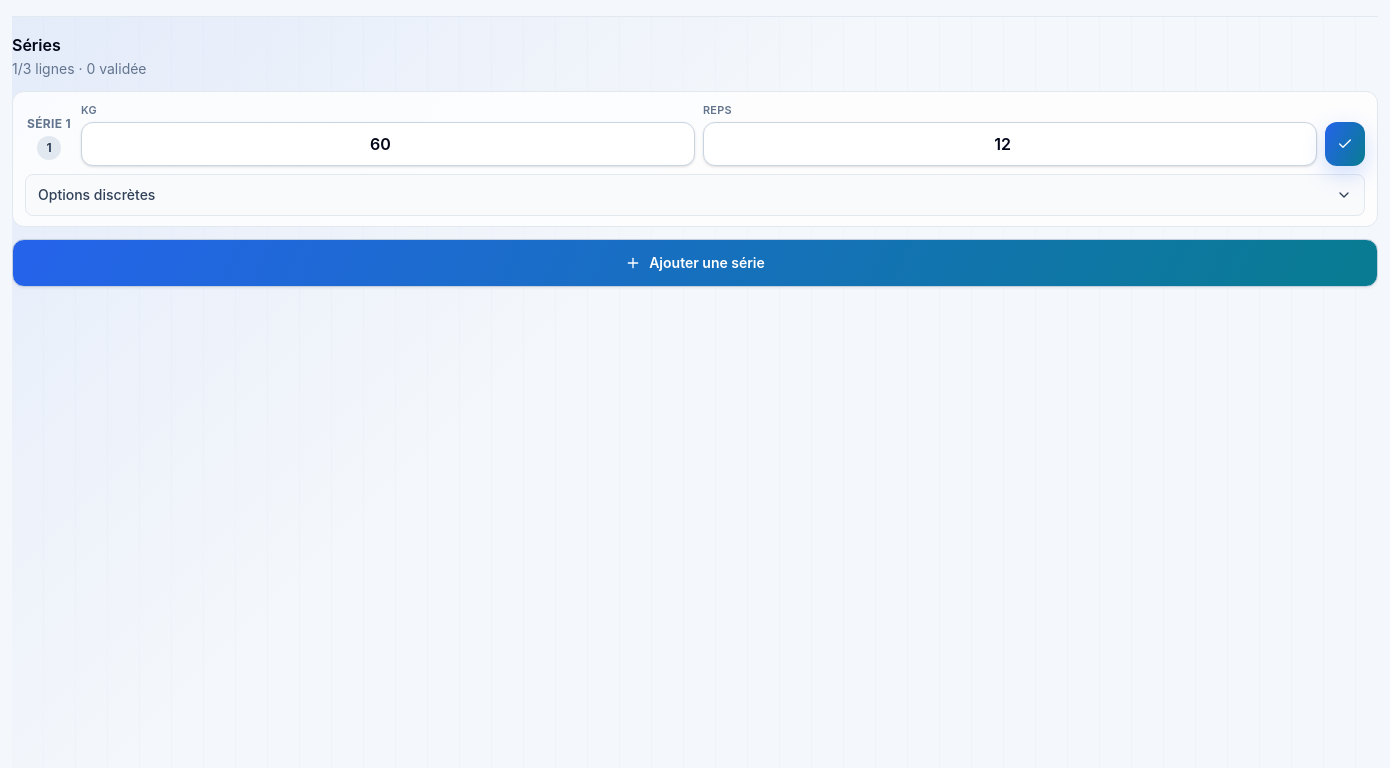
Test: StrengthSetEditor › sauvegarde une saisie différée sans bouton Enregistrer
This screenshot has width=1390, height=768.
Step 1. Replace the text in the number field named "Charge en kg" with "65" → (388, 144), box x1=81 y1=122 x2=695 y2=166
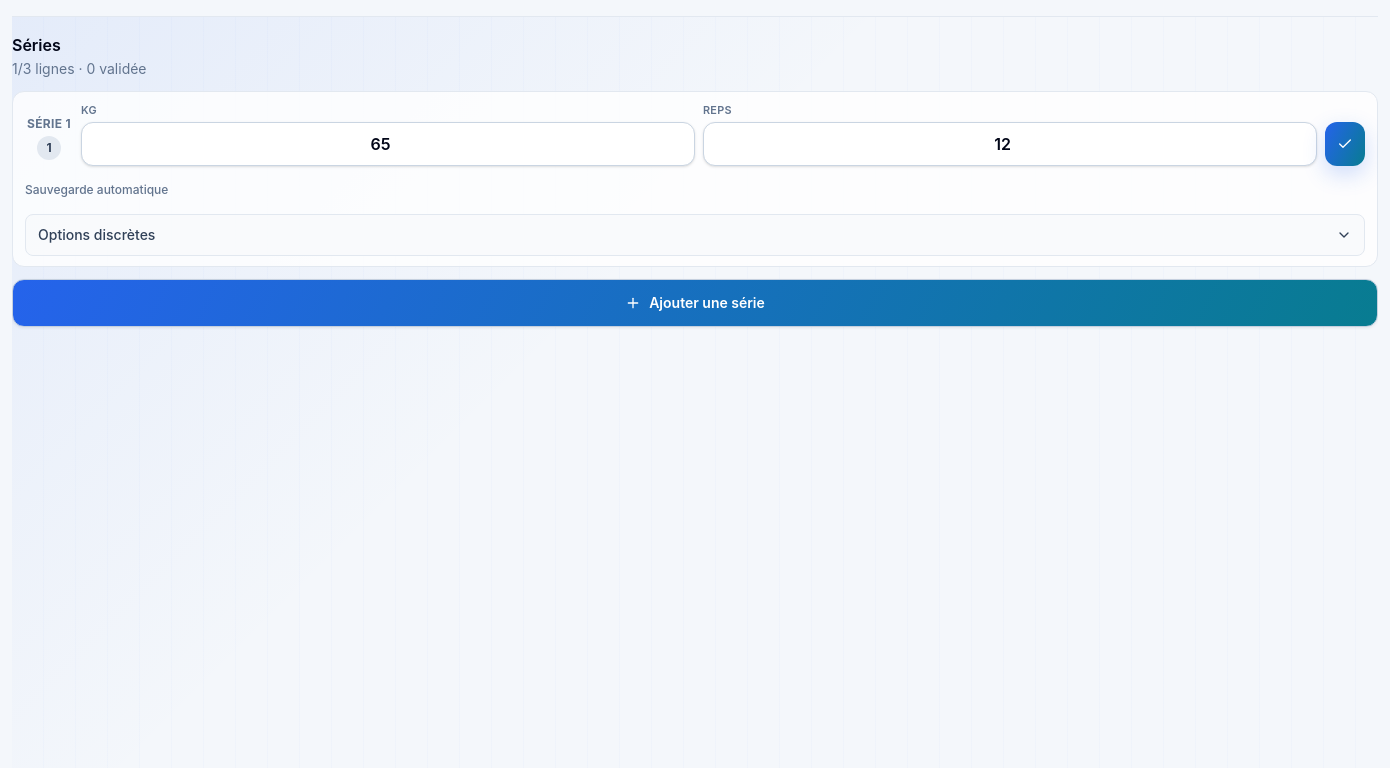
Result: the text "Sauvegarde automatique" is shown at x1=25 y1=182 x2=168 y2=198
